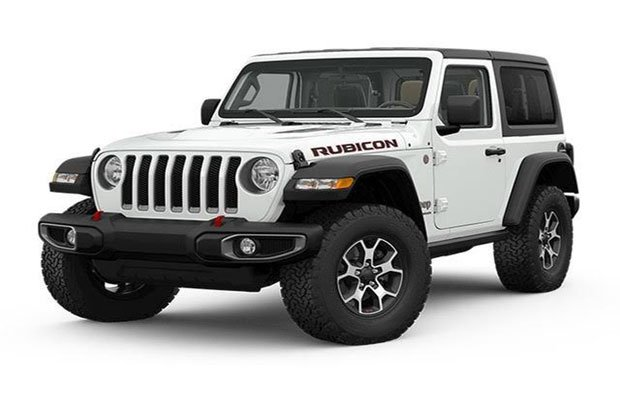mobil: (44, 45, 587, 364)
